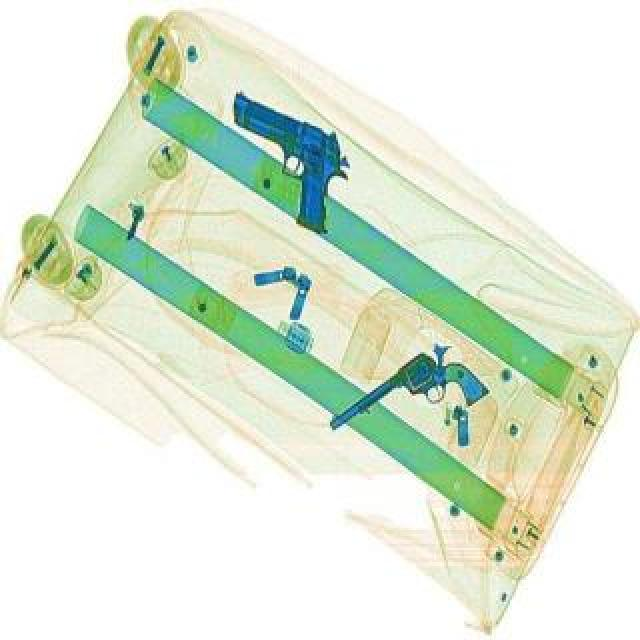gun: (192, 88, 368, 232), (322, 334, 490, 474)
